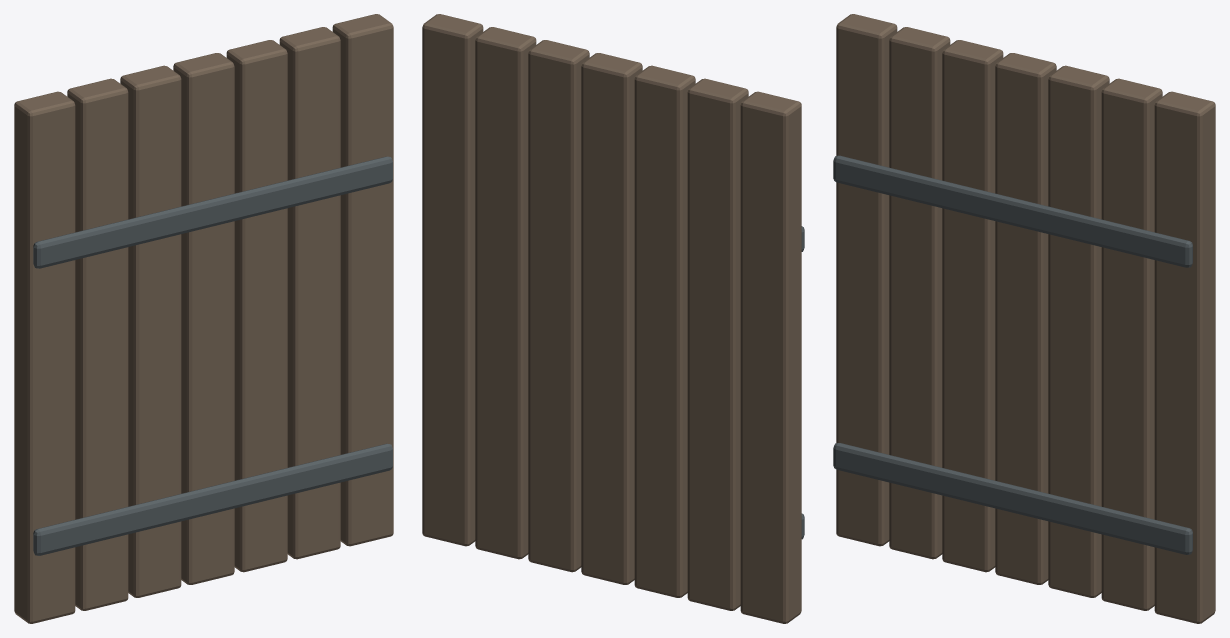
Rendered from wood_door_intact.glb.
3 renders of one model, left to right at view 1: azimuth 30°, elevation 25°; view 2: azimuth 150°, elevation 25°; view 3: azimuth 330°, elevation 25°, orthographic.
Visible parts, largest first — view 1: Body.027; view 2: Body.027; view 3: Body.027.
Part boxes in pixels (left/top/right/bottom): Body.027: left=14, top=14, right=393, bottom=623; Body.027: left=422, top=14, right=804, bottom=623; Body.027: left=833, top=14, right=1215, bottom=623.
Bounding box in the file's own units: 1 × 1.34 × 0.1045.
